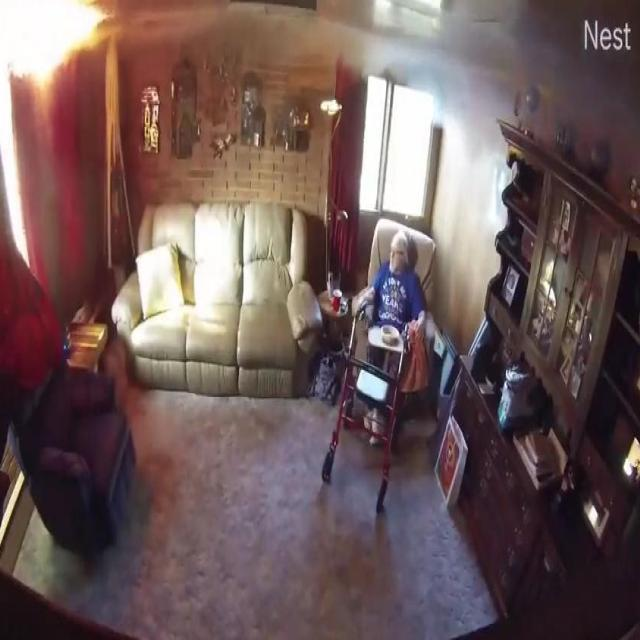fire: (312, 19, 515, 152)
smoke: (0, 1, 111, 84)
